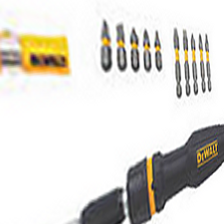screwdriver: (55, 114, 224, 224)
